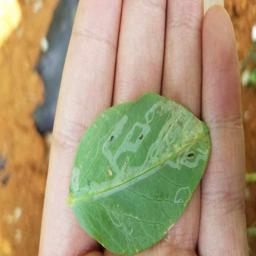liriomyza: (66, 97, 209, 199), (173, 186, 193, 208)
